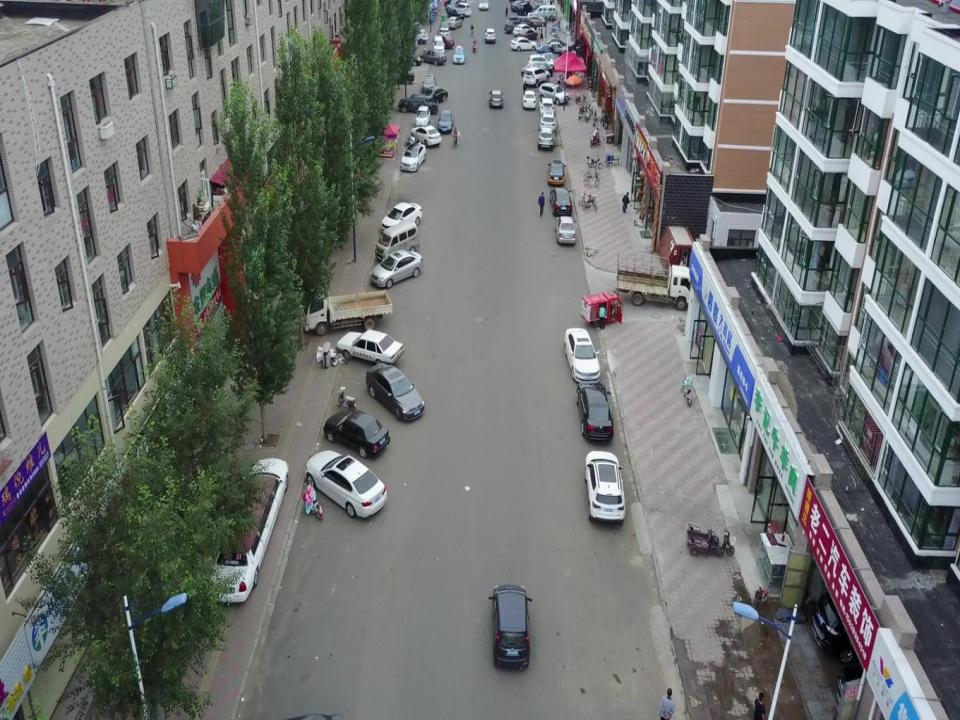car: (209, 454, 290, 603), (808, 596, 890, 664), (306, 454, 389, 518), (323, 404, 391, 461), (367, 364, 425, 424), (491, 585, 530, 670), (586, 451, 626, 524), (336, 329, 404, 368), (577, 380, 615, 444), (564, 329, 602, 382), (371, 250, 423, 288), (381, 201, 422, 236), (402, 141, 426, 173), (550, 186, 573, 216), (540, 82, 570, 104), (411, 127, 442, 148), (417, 48, 447, 69), (387, 66, 414, 87), (556, 218, 576, 246), (505, 14, 534, 33), (547, 158, 565, 188), (422, 86, 448, 106), (520, 62, 553, 76), (536, 43, 559, 63), (414, 105, 432, 130), (438, 109, 454, 136), (404, 27, 428, 44), (538, 127, 554, 152), (528, 54, 553, 70), (511, 38, 539, 52), (513, 22, 537, 38), (540, 112, 556, 135), (422, 72, 436, 97), (400, 52, 422, 67), (539, 98, 555, 118), (543, 42, 569, 54), (543, 38, 569, 50), (489, 90, 504, 110), (528, 12, 546, 28), (446, 15, 462, 32), (453, 44, 466, 64), (523, 92, 537, 108), (484, 27, 497, 44), (438, 22, 450, 38), (517, 2, 533, 14), (509, 0, 525, 11), (479, 0, 489, 10)
truck: (615, 249, 701, 308), (301, 286, 391, 335), (398, 94, 437, 118)
van: (374, 223, 420, 257), (532, 7, 558, 22), (450, 3, 474, 17), (431, 34, 444, 55)
